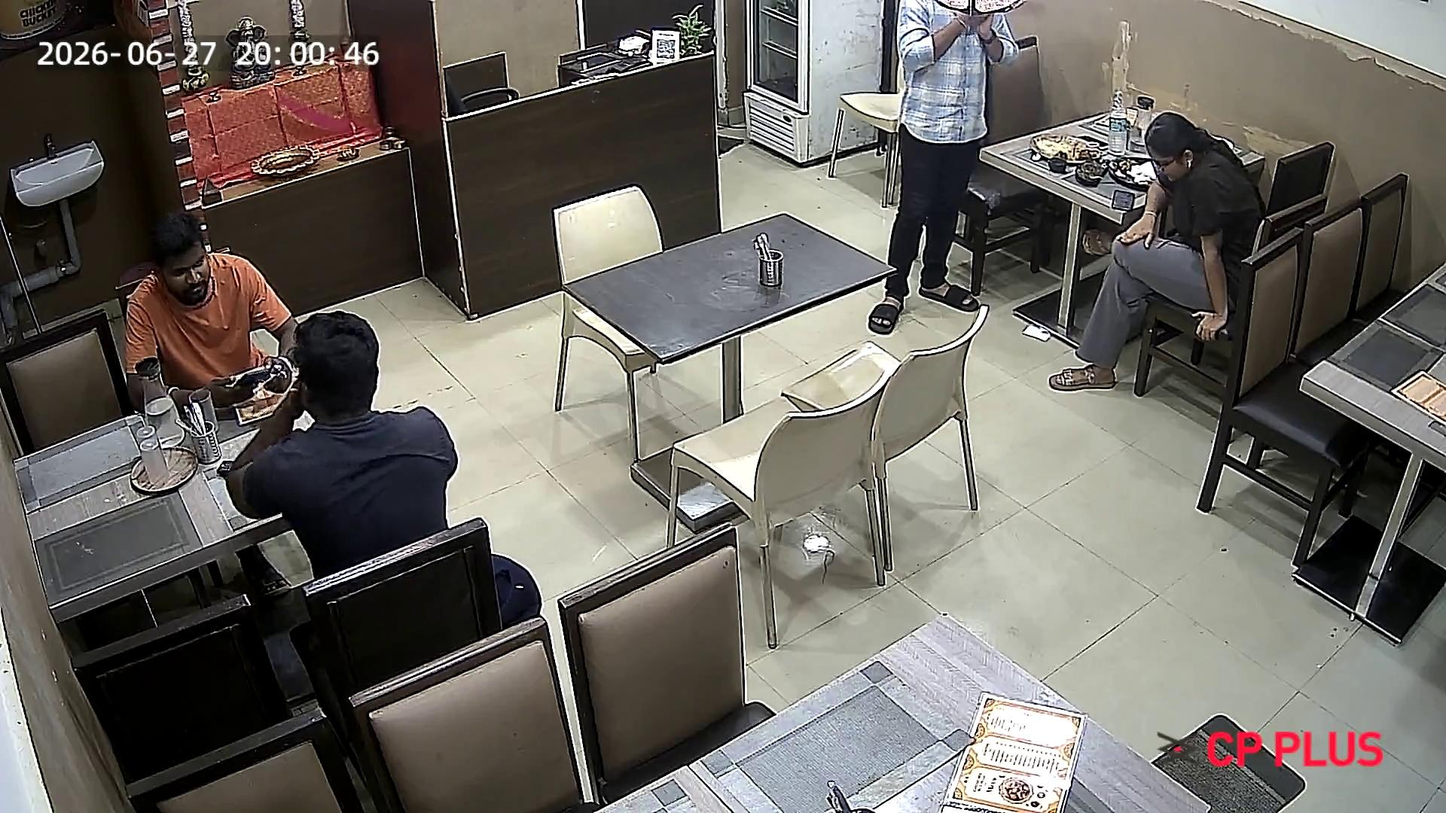clean: (541, 610, 1209, 813), (562, 212, 895, 364)
occupied: (6, 216, 387, 626), (918, 22, 1308, 224)
